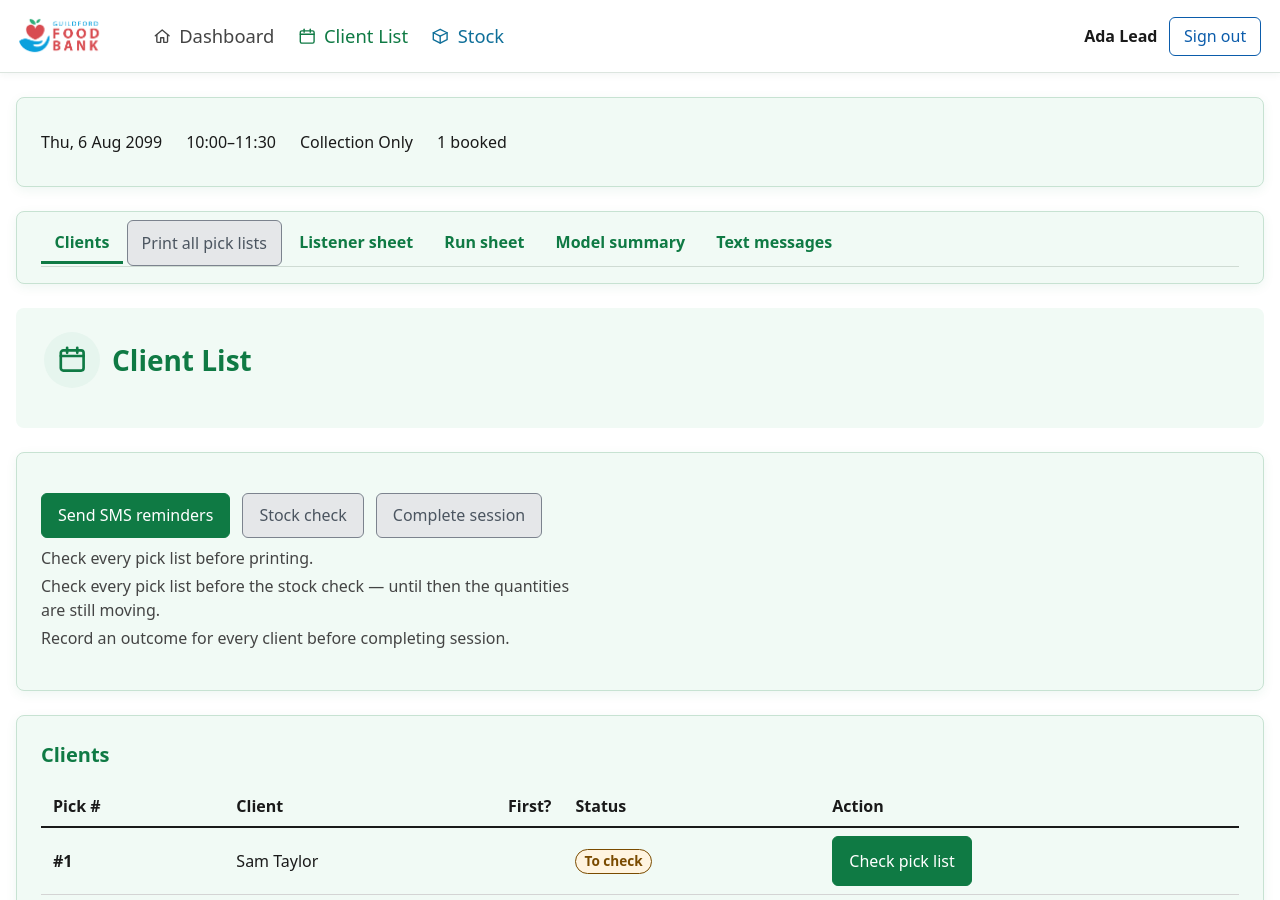
Test: a team lead running a session › sends reminders from the Clients tab without leaving the run session screen
Click the button "Send SMS reminders" at {"x": 136, "y": 515}, box [41,493,230,538]
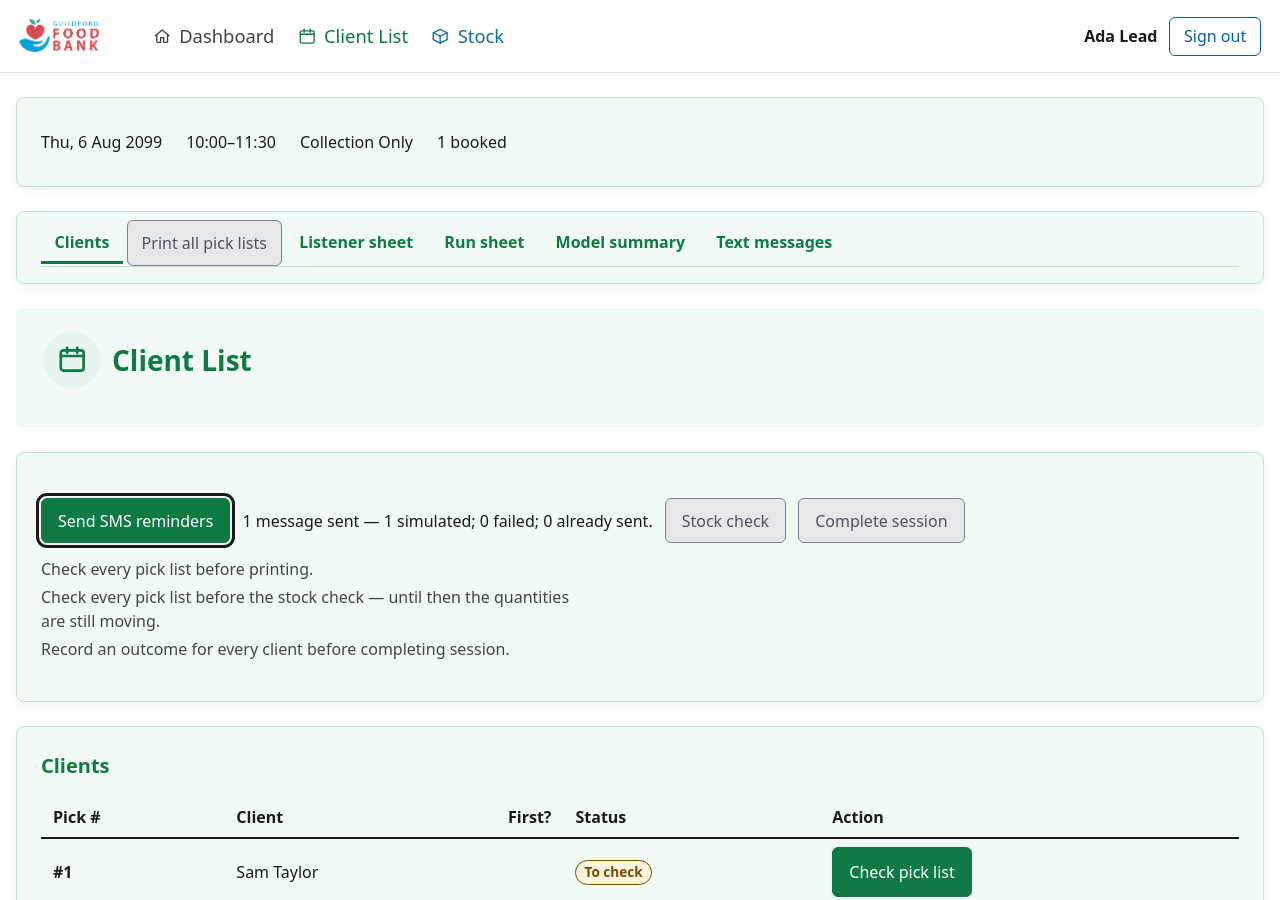
Expected: the message reads "1 message sent — 1 simulated; 0 failed; 0 already sent.", [242,510,653,532]
